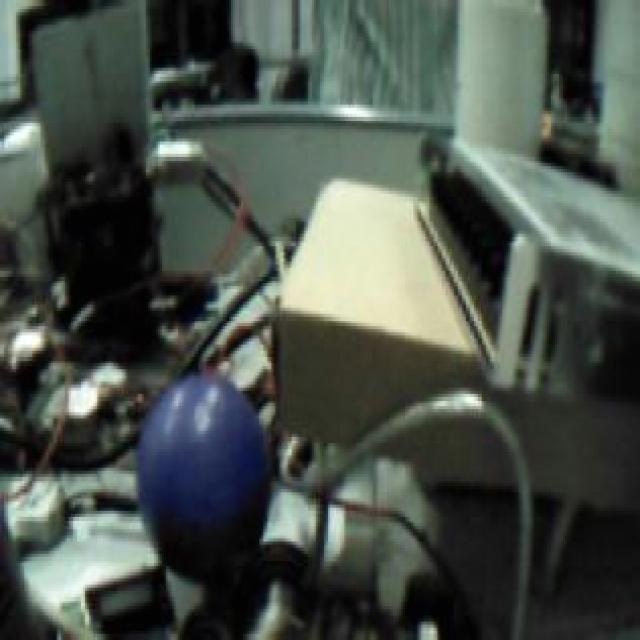BallPurple: (138, 373, 269, 581)
